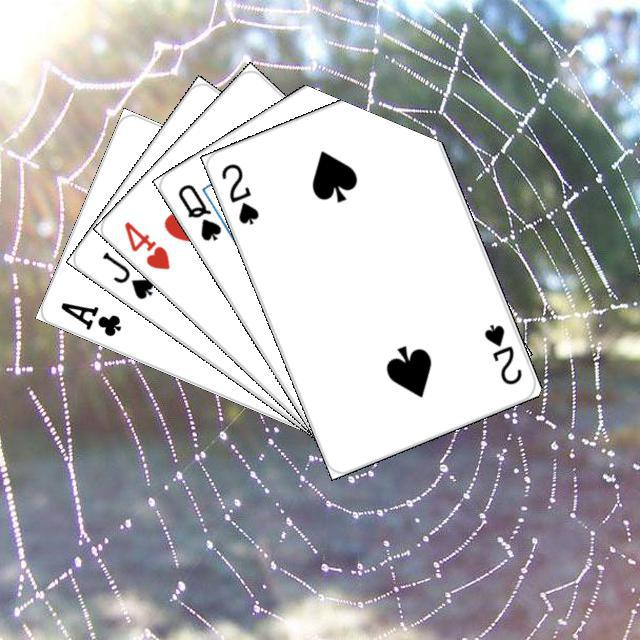2s: (216, 158, 261, 227), (479, 319, 524, 387)
4h: (119, 216, 172, 272)
Ac: (55, 297, 124, 338)
Js: (97, 247, 156, 301)
Qs: (172, 179, 223, 243)
